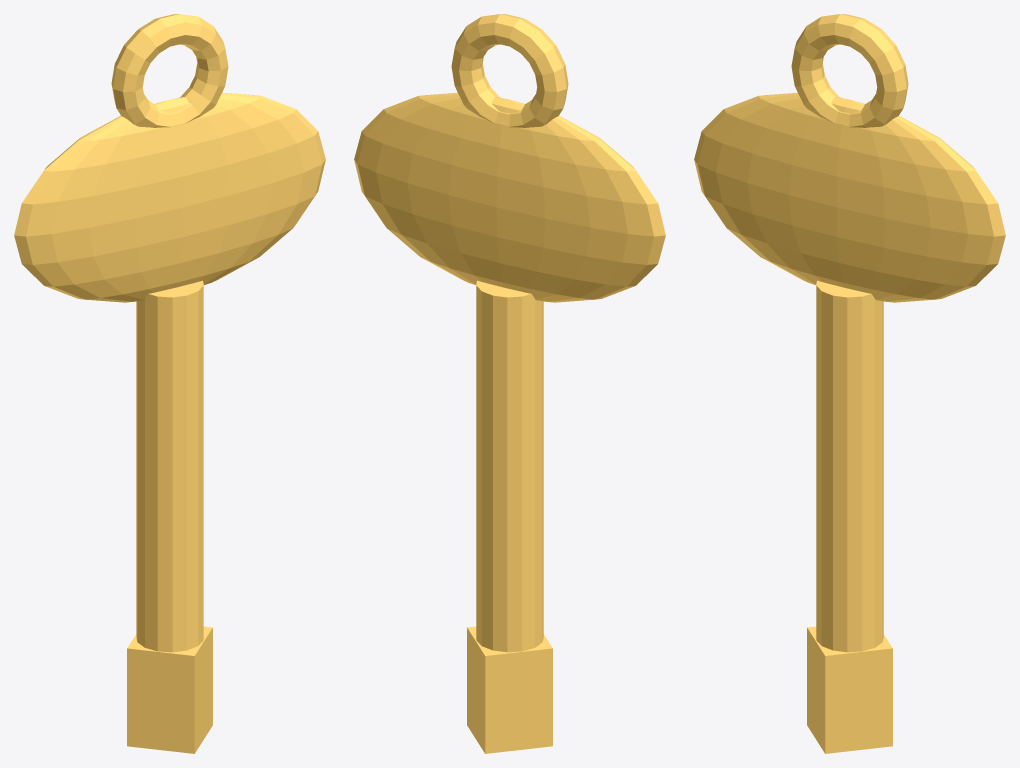
Rendered from chave_de_corda.glb.
3 views of the same model, side by side, from view 1: azimuth 30°, elevation 25°; view 2: azimuth 150°, elevation 25°; view 3: azimuth 330°, elevation 25° (orthographic).
Parts seen in each view (by area): view 1: chave_asas, chave_haste, chave_encaixe, chave_argola; view 2: chave_asas, chave_haste, chave_encaixe, chave_argola; view 3: chave_asas, chave_haste, chave_encaixe, chave_argola.
Boxes of the visible parts, left/top/right/bottom form: chave_asas: left=14, top=92, right=325, bottom=302; chave_haste: left=136, top=280, right=203, bottom=652; chave_encaixe: left=127, top=626, right=212, bottom=753; chave_argola: left=111, top=14, right=228, bottom=127; chave_asas: left=354, top=92, right=665, bottom=302; chave_haste: left=476, top=280, right=543, bottom=652; chave_encaixe: left=467, top=626, right=552, bottom=753; chave_argola: left=451, top=14, right=568, bottom=127; chave_asas: left=694, top=92, right=1005, bottom=302; chave_haste: left=816, top=280, right=883, bottom=652; chave_encaixe: left=807, top=626, right=892, bottom=753; chave_argola: left=791, top=14, right=908, bottom=127.
Bounding box in the file's own units: 0.04 × 0.0882 × 0.011.
